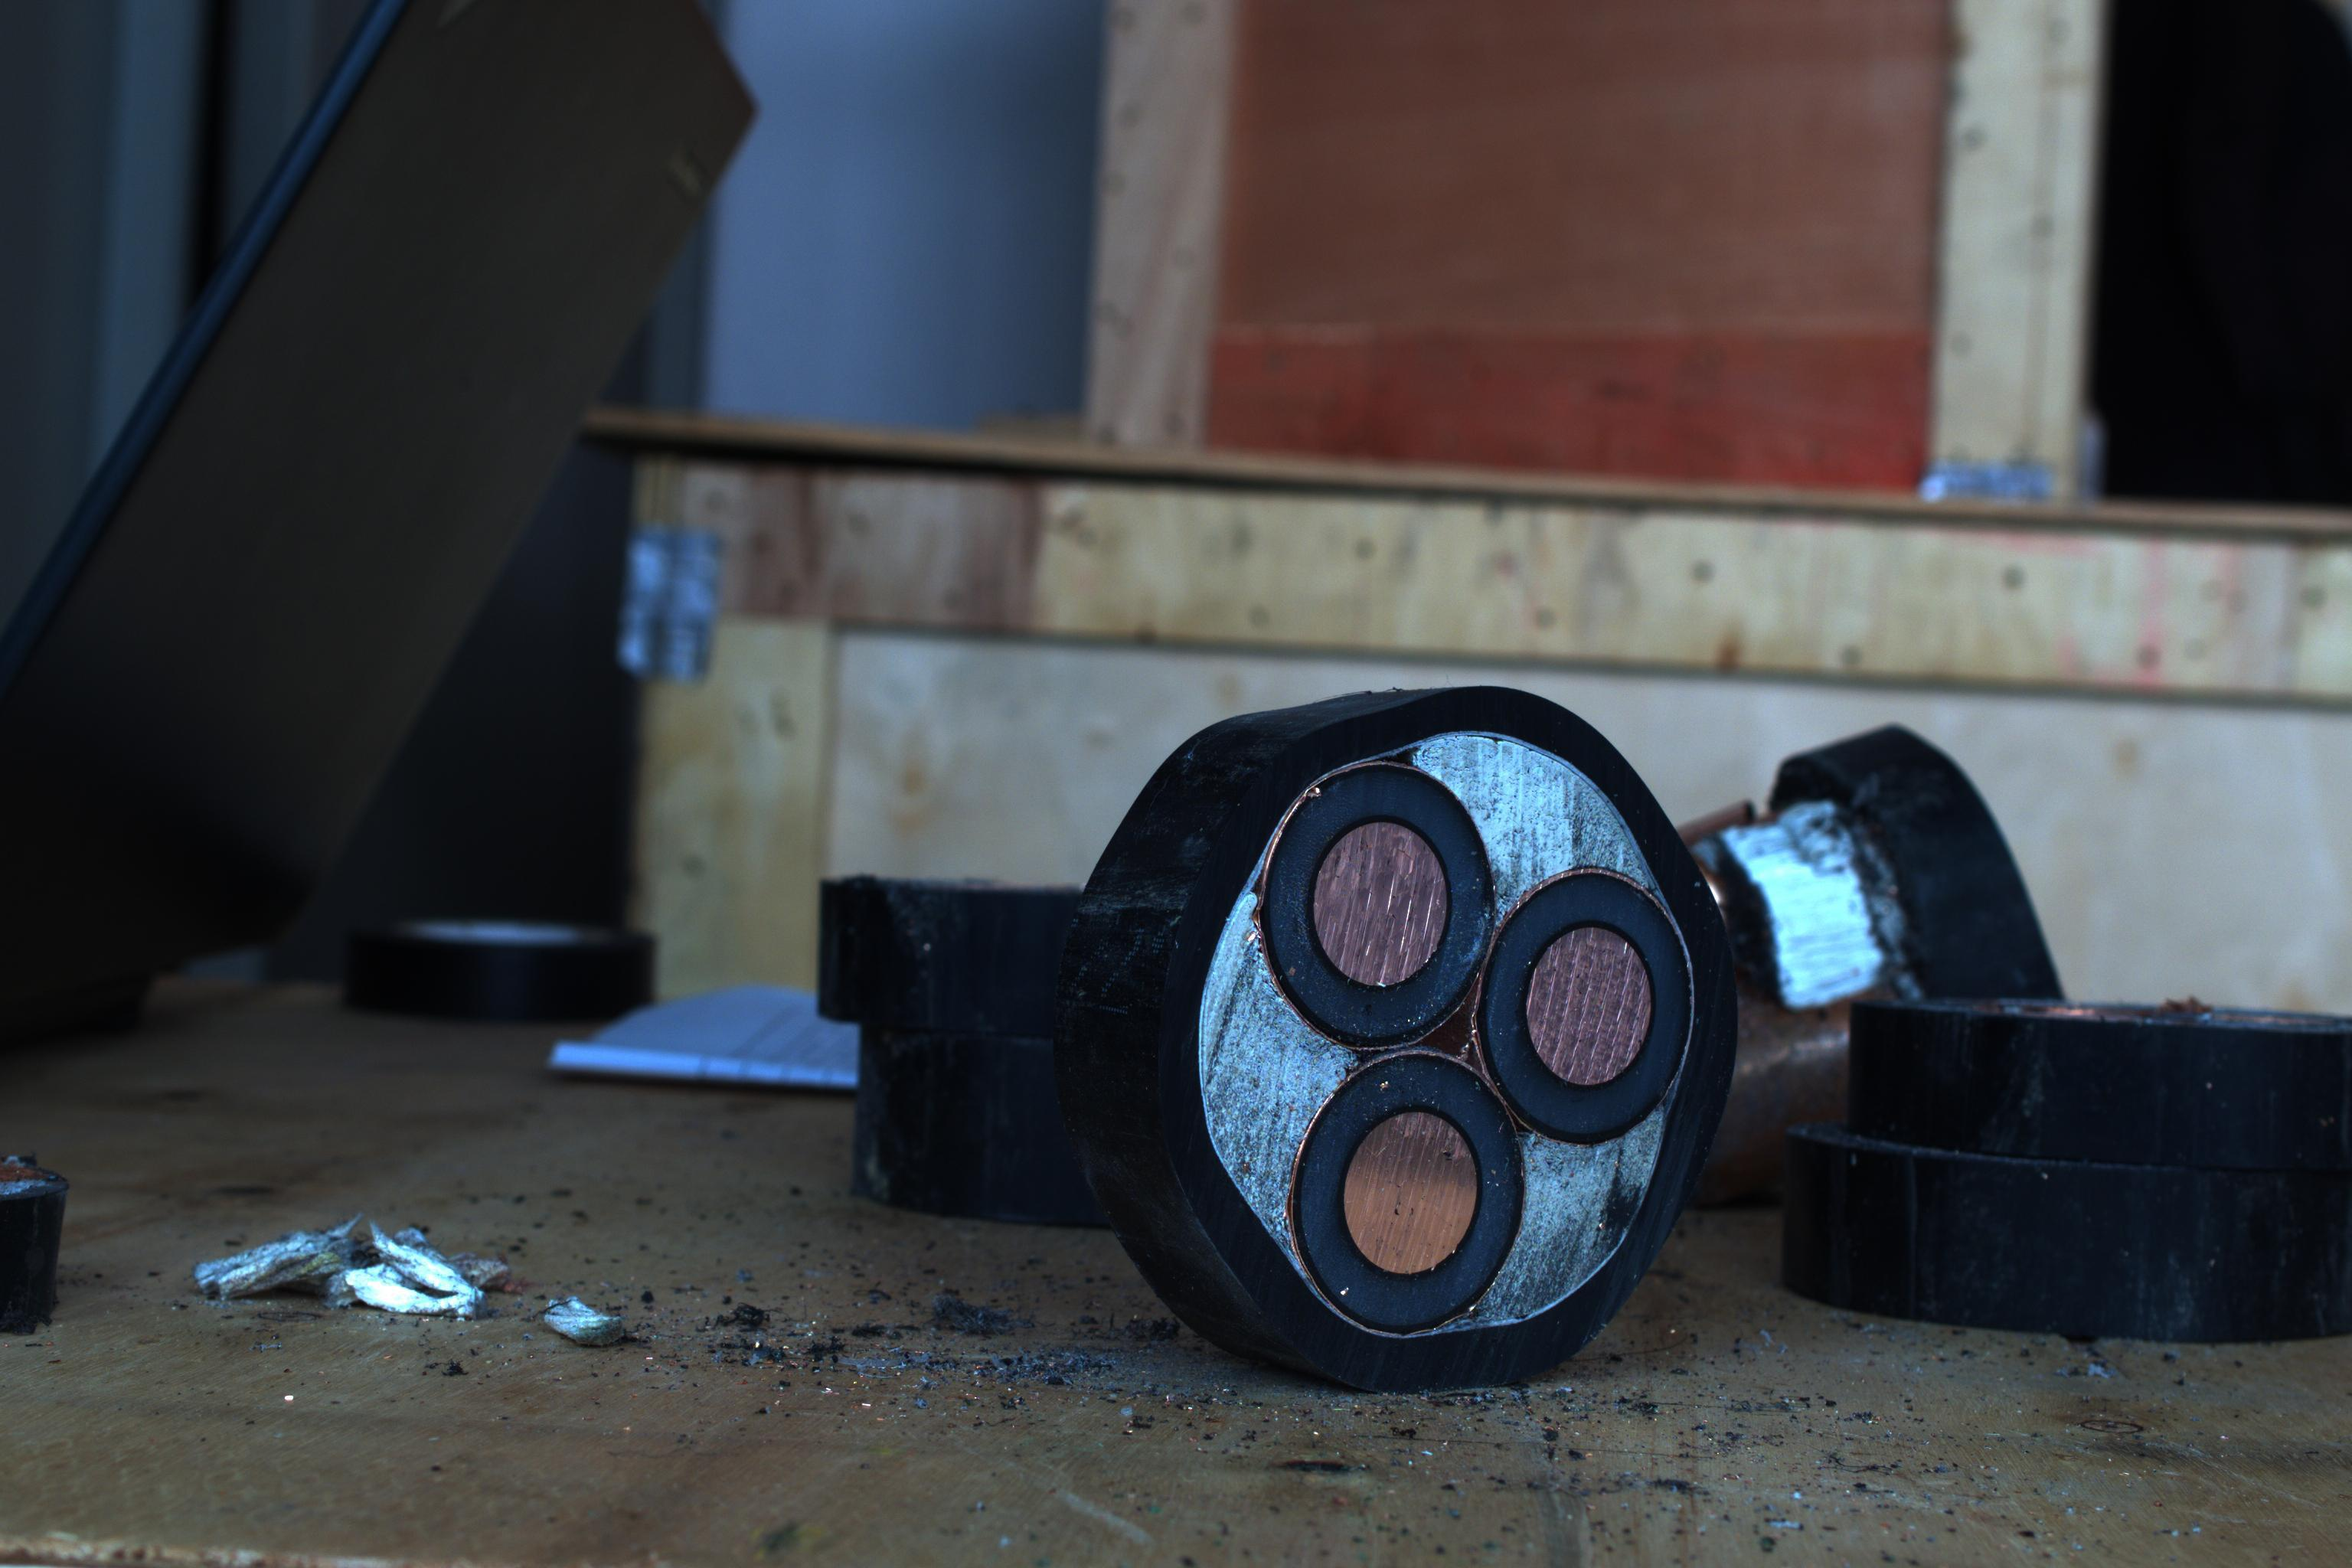ZA_YJV_8.7_10kV_3x240: (1197, 702, 1743, 1386)
